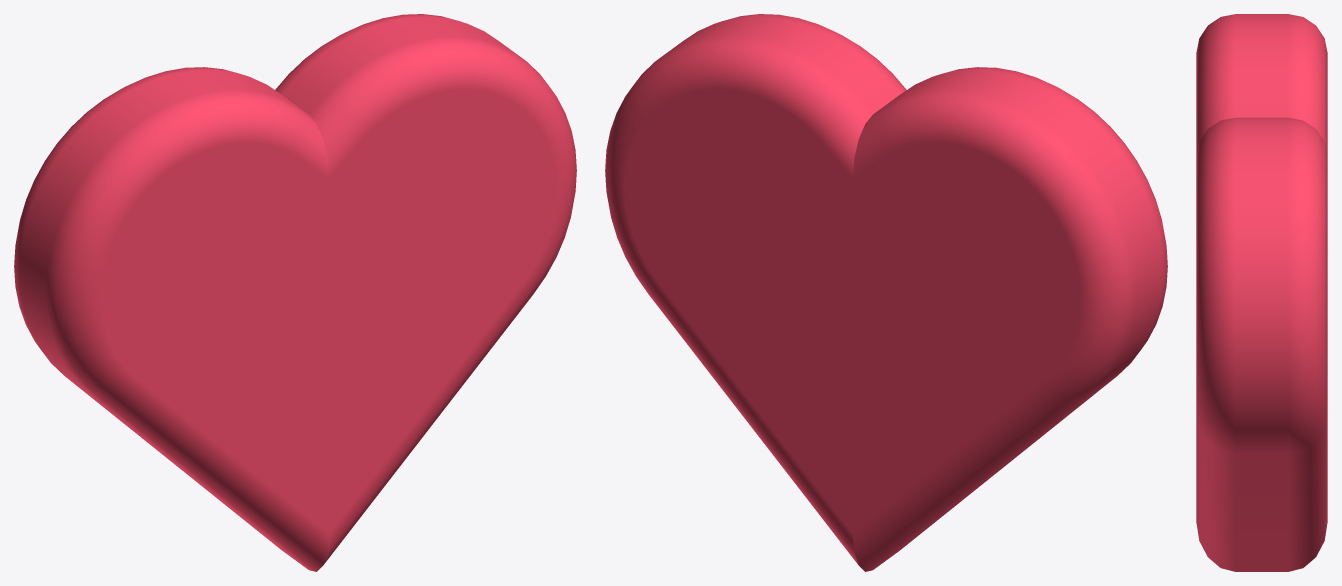
Rendered from heart.glb.
3 renders of one model, left to right at view 1: azimuth 30°, elevation 25°; view 2: azimuth 150°, elevation 25°; view 3: azimuth 270°, elevation 25°, orthographic. The views are drawn at different scales.
Visible parts, largest first — view 1: heart; view 2: heart; view 3: heart.
Boxes of the visible parts, x1,y1,x2,y2 form: heart: (14,14,576,571); heart: (605,14,1167,571); heart: (1196,14,1327,571).
Size of the model in its own units: 0.9898 by 0.9049 by 0.22.
